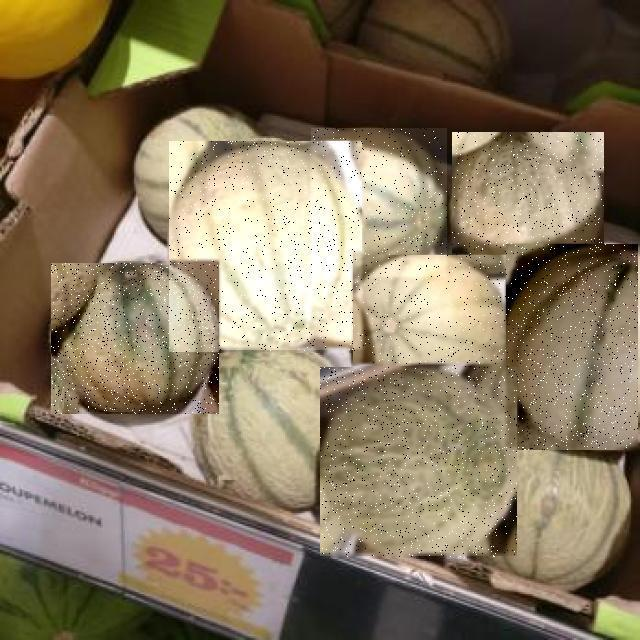Cantaloupe: (169, 142, 362, 352), (320, 368, 517, 558), (506, 245, 638, 451), (51, 263, 219, 414), (452, 132, 604, 282), (353, 256, 513, 396), (311, 128, 447, 280)
